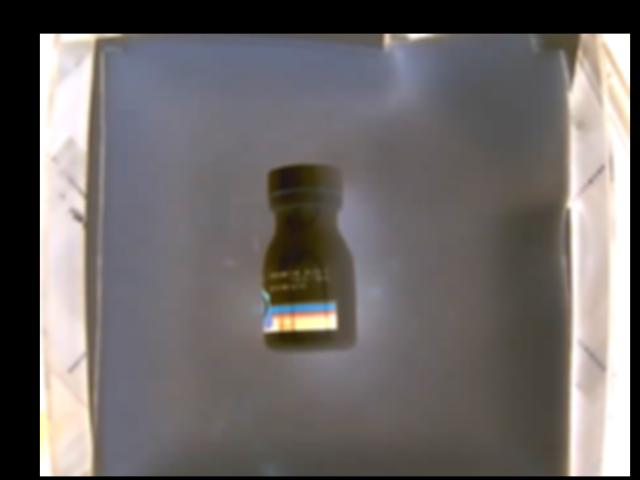Bottle: (261, 167, 358, 352)
